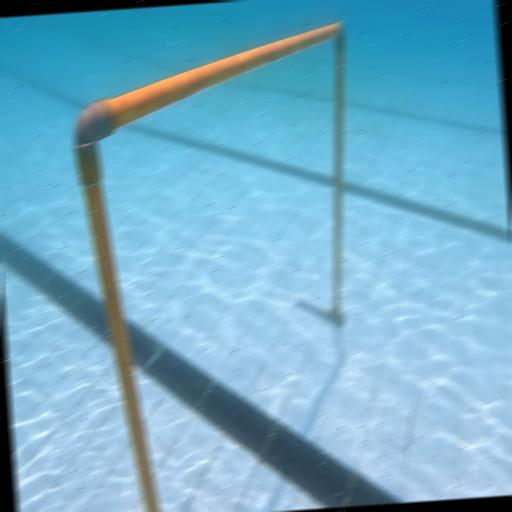gate: (66, 20, 377, 512)
